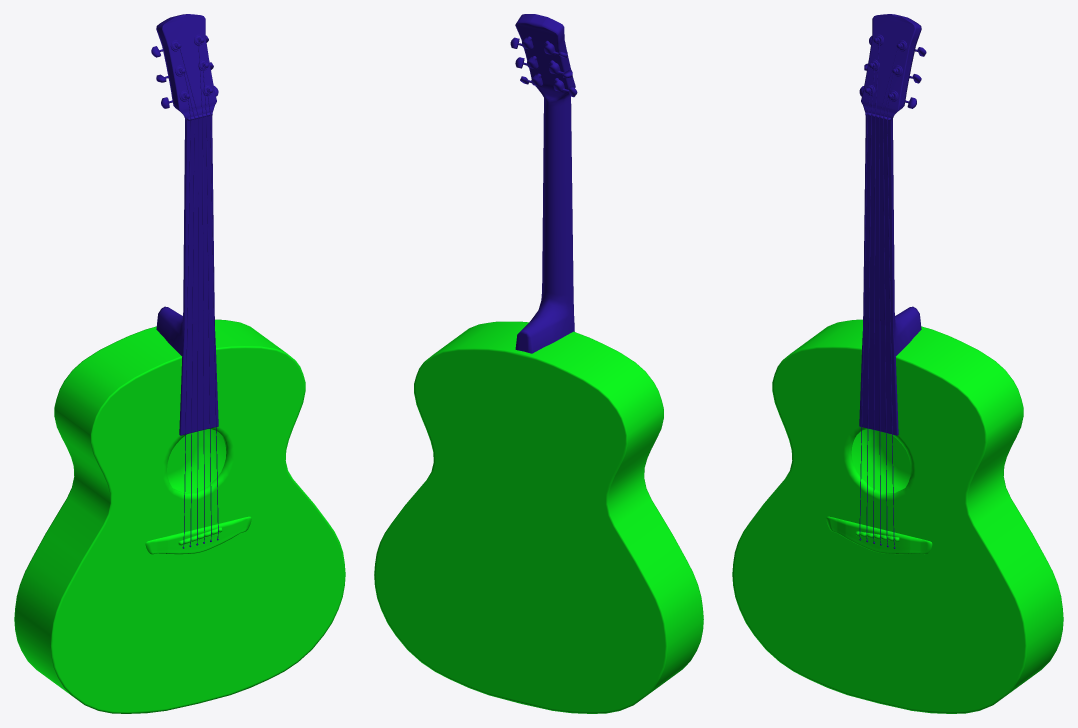
The model's file is Guitar.obj.
3 views of the same model, side by side, from view 1: azimuth 30°, elevation 25°; view 2: azimuth 150°, elevation 25°; view 3: azimuth 330°, elevation 25° (orthographic).
Visible parts, largest first — view 1: Body; view 2: Body; view 3: Body.
Part boxes in pixels (left/top/right/bottom): Body: left=14, top=14, right=345, bottom=713; Body: left=374, top=14, right=703, bottom=713; Body: left=732, top=14, right=1063, bottom=713.
Size of the model in its own units: 2.03 by 4.46 by 0.4789.
